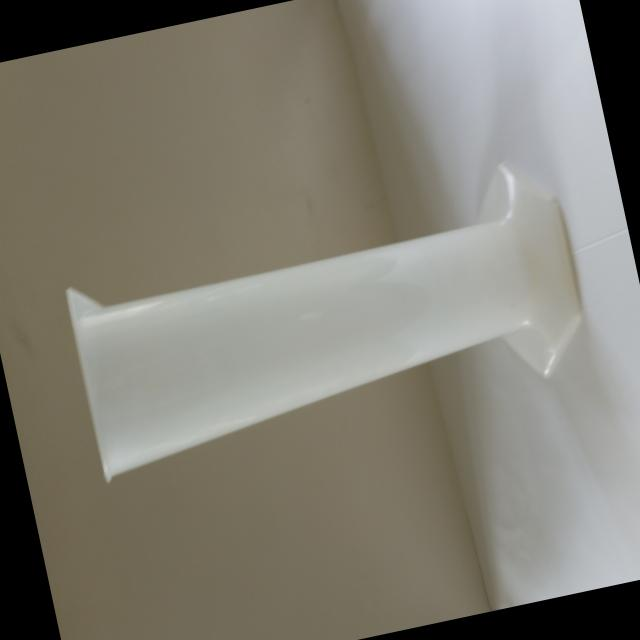graduated_cylinder: (50, 142, 600, 492)
